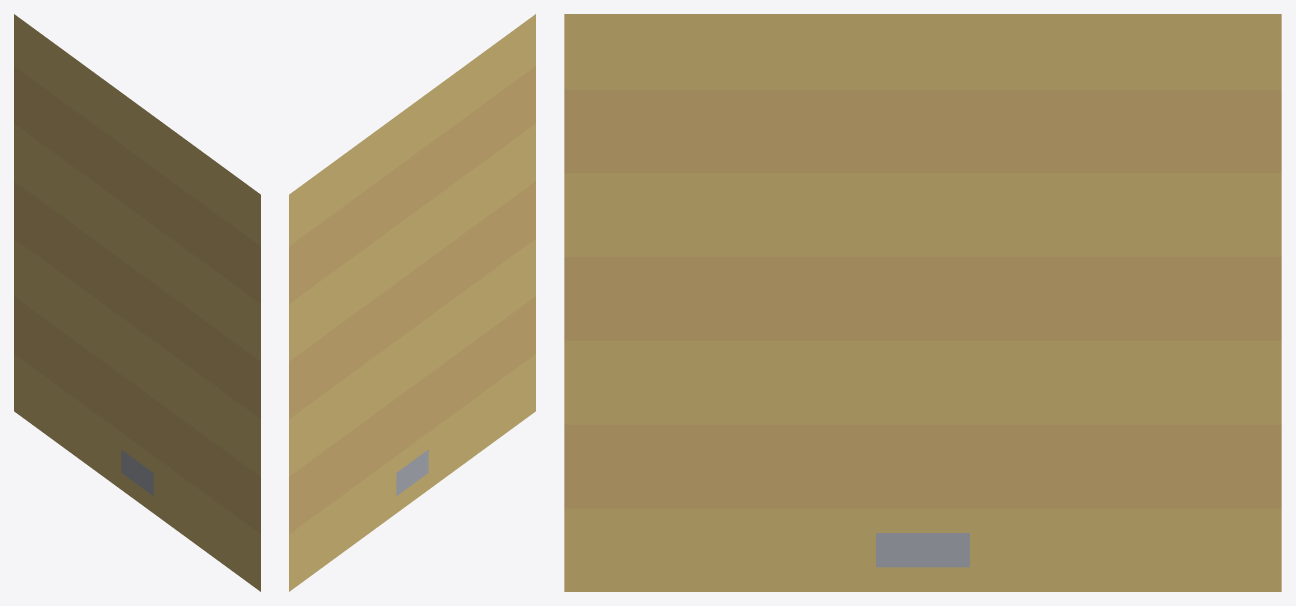
Rendered from door-wide-closed.fbx.
3 views of the same model, side by side, from view 1: azimuth 30°, elevation 25°; view 2: azimuth 150°, elevation 25°; view 3: azimuth 270°, elevation 25° (orthographic). The views are drawn at different scales.
Visible parts, largest first — view 1: door-wide-closed; view 2: door-wide-closed; view 3: door-wide-closed.
Part boxes in pixels (x1=…): door-wide-closed: x1=14, y1=14, x2=260, y2=591; door-wide-closed: x1=289, y1=14, x2=535, y2=591; door-wide-closed: x1=564, y1=14, x2=1281, y2=591.
Bounding box in the file's own units: 1.91e-05 × 160 × 180.
